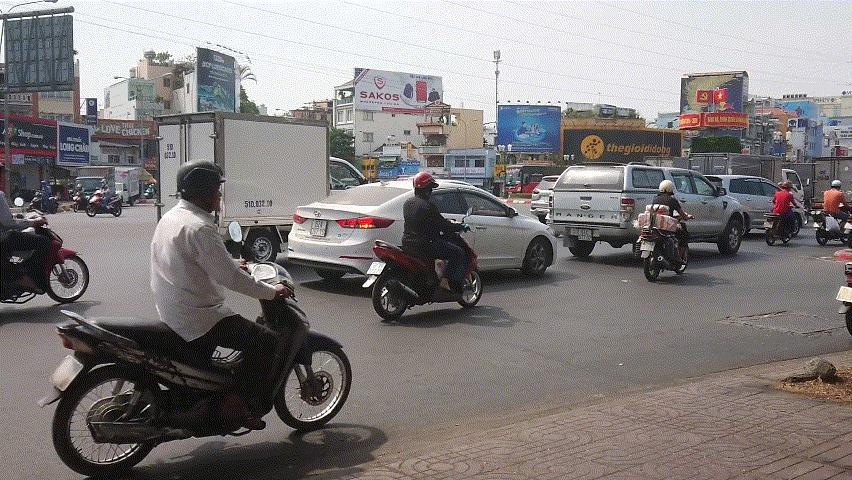driver: (37, 159, 353, 480), (360, 171, 487, 320), (0, 161, 90, 304), (634, 180, 697, 282), (810, 179, 852, 245), (763, 180, 801, 247)
helmet: (176, 159, 227, 213), (412, 170, 440, 202), (658, 179, 675, 196), (831, 179, 842, 191), (781, 182, 793, 193)
